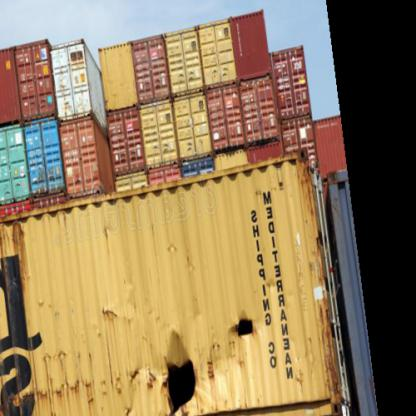Damage: (16, 359, 137, 410), (141, 348, 206, 412), (215, 298, 271, 361)
